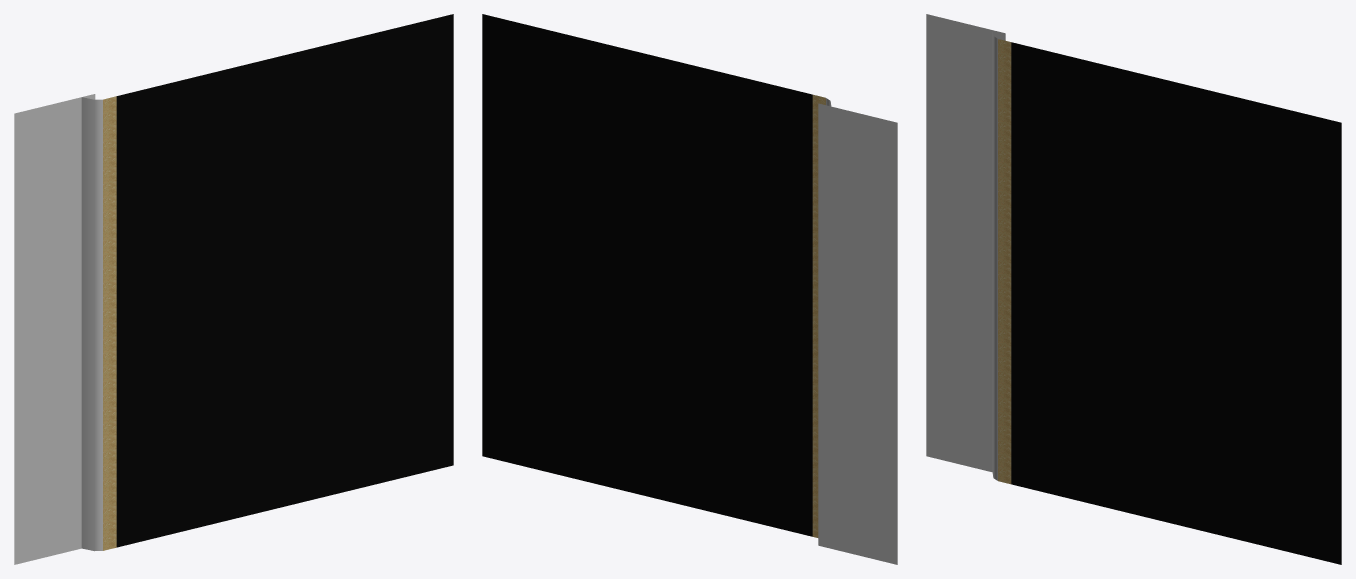
File: Navel-Cave-West-2_02_01.obj
3 renders of one model, left to right at view 1: azimuth 30°, elevation 25°; view 2: azimuth 150°, elevation 25°; view 3: azimuth 330°, elevation 25°, orthographic. The views are drawn at different scales.
Parts seen in each view (by area): view 1: map; view 2: map; view 3: map.
Boxes of the visible parts, <box> form: map: <box>14,14,453,564</box>; map: <box>482,14,897,564</box>; map: <box>926,14,1341,564</box>.
Size of the model in its own units: 32 by 32 by 1.
